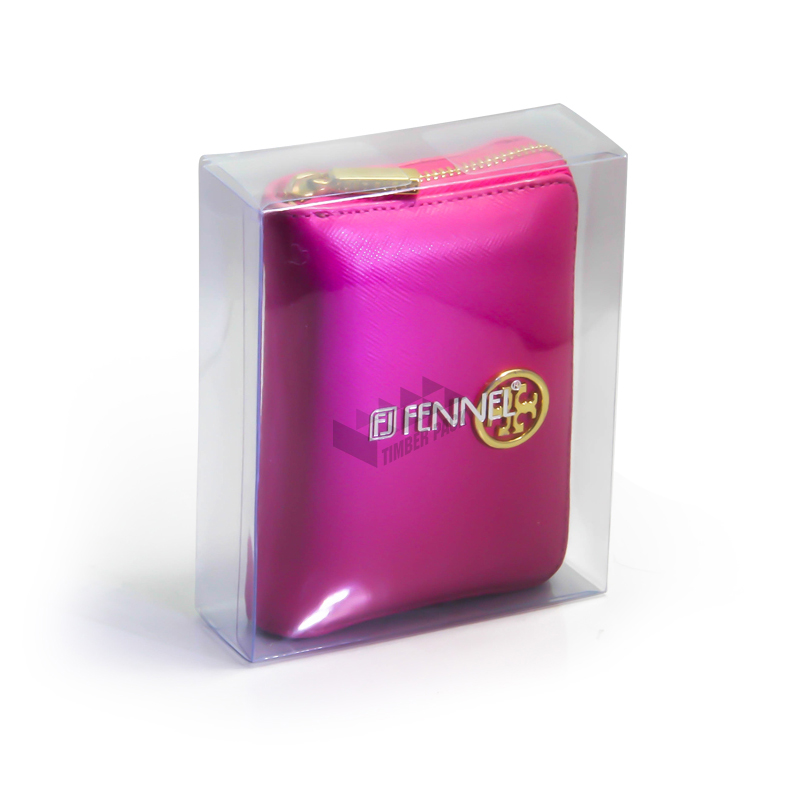PlasticBox: (184, 98, 637, 666)
